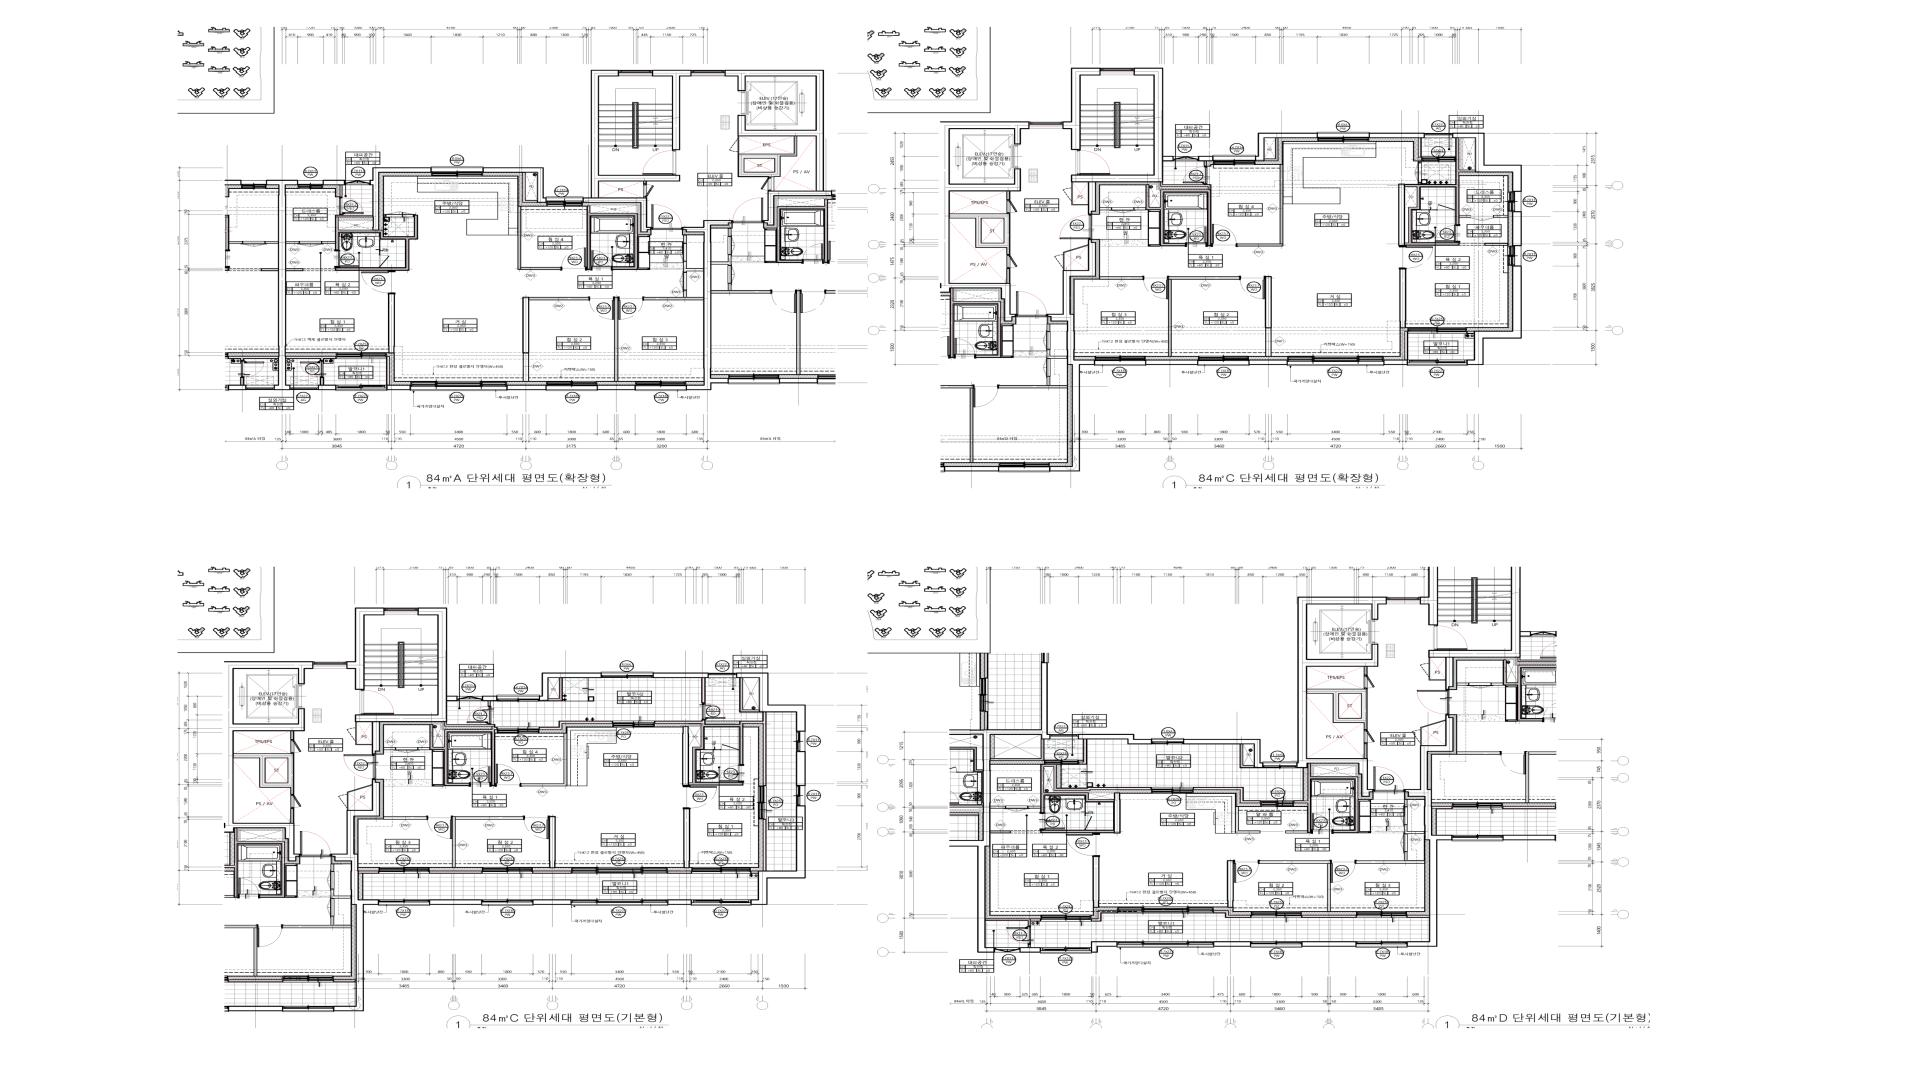door: (1076, 149, 1110, 175), (1433, 625, 1468, 650), (343, 754, 376, 780), (360, 690, 394, 715), (652, 202, 682, 230), (683, 785, 717, 809), (642, 151, 676, 175), (361, 271, 396, 294), (1067, 833, 1100, 857), (1399, 246, 1433, 269), (1374, 766, 1404, 792), (1060, 215, 1092, 239), (1212, 224, 1238, 247), (495, 764, 521, 787), (523, 816, 549, 839), (1331, 860, 1357, 883), (1234, 860, 1260, 883), (618, 297, 644, 320), (1240, 276, 1265, 299), (1143, 276, 1168, 299), (427, 816, 452, 839), (589, 297, 614, 320), (562, 248, 586, 271), (1435, 224, 1461, 243), (1185, 226, 1208, 247), (469, 766, 492, 787), (1006, 926, 1031, 945), (1311, 813, 1333, 834), (466, 706, 491, 724), (1039, 813, 1065, 830), (591, 250, 612, 271), (1183, 167, 1208, 184), (719, 765, 744, 782), (339, 198, 364, 215), (334, 250, 359, 267), (702, 704, 726, 721), (300, 361, 323, 377), (643, 181, 654, 198), (1414, 161, 1422, 184), (729, 136, 739, 154), (290, 794, 302, 808), (1364, 674, 1375, 689), (1364, 729, 1375, 744), (1006, 200, 1017, 213), (290, 740, 301, 753), (761, 177, 771, 191), (395, 747, 418, 753), (299, 241, 322, 247), (1112, 207, 1134, 213), (1006, 806, 1028, 812), (379, 255, 390, 267), (1471, 215, 1493, 221), (721, 744, 739, 750), (1437, 204, 1455, 210), (1085, 815, 1092, 830)
wall: (1297, 596, 1387, 797), (224, 661, 313, 861), (940, 122, 1029, 322), (725, 70, 832, 226), (977, 730, 1050, 953), (583, 70, 680, 233), (1071, 68, 1174, 215), (355, 607, 457, 754), (1428, 543, 1521, 690), (1404, 714, 1454, 947), (682, 220, 733, 390), (654, 713, 767, 786), (1405, 138, 1475, 246), (266, 180, 298, 390), (331, 779, 380, 905), (1047, 239, 1096, 365), (1168, 277, 1240, 356), (523, 297, 590, 381), (751, 806, 806, 905), (1467, 266, 1522, 365), (1040, 765, 1152, 813), (335, 215, 418, 271), (1294, 764, 1359, 833), (429, 722, 498, 786), (1452, 133, 1522, 192), (736, 673, 806, 732), (1146, 185, 1212, 246), (369, 168, 432, 230), (1237, 165, 1283, 247), (1260, 860, 1331, 912), (452, 816, 523, 867), (586, 206, 638, 270), (346, 607, 385, 690), (652, 70, 692, 150), (1062, 68, 1101, 150), (1420, 543, 1458, 625), (518, 207, 561, 270), (234, 753, 294, 795), (950, 213, 1010, 255), (521, 733, 567, 786), (1184, 739, 1264, 768), (482, 168, 546, 203), (1255, 133, 1318, 161), (540, 673, 602, 701), (991, 739, 1045, 761), (1193, 787, 1261, 803), (1356, 851, 1424, 864), (1078, 734, 1152, 745), (1235, 806, 1261, 833), (739, 678, 759, 713), (539, 721, 613, 730), (1265, 277, 1272, 357), (981, 219, 1004, 243), (265, 758, 287, 783), (644, 291, 704, 300), (522, 173, 537, 203), (1358, 799, 1371, 833), (388, 294, 395, 353), (683, 809, 690, 868), (1092, 857, 1100, 908), (1160, 182, 1211, 190), (355, 722, 372, 745), (549, 816, 556, 868), (986, 919, 1031, 927), (1400, 269, 1406, 328), (796, 751, 806, 786), (683, 727, 689, 785), (548, 678, 563, 701), (1227, 860, 1234, 908), (614, 297, 618, 381), (653, 672, 709, 678), (1301, 941, 1357, 947), (1091, 910, 1118, 922), (1091, 941, 1118, 953), (1240, 745, 1254, 768), (1265, 138, 1279, 161), (429, 899, 482, 905), (1213, 910, 1252, 918), (1513, 212, 1522, 246), (1114, 793, 1121, 834), (1369, 133, 1425, 138), (1145, 360, 1198, 365), (286, 356, 337, 361), (683, 261, 703, 273), (1079, 739, 1088, 765), (1213, 941, 1251, 947), (1040, 830, 1114, 833), (763, 819, 767, 871), (506, 385, 547, 390), (532, 900, 572, 905), (1248, 360, 1288, 365), (597, 385, 636, 390), (1404, 825, 1424, 834), (383, 816, 427, 820), (1100, 276, 1143, 280), (1301, 915, 1357, 918), (428, 871, 483, 874), (1019, 947, 1041, 953), (386, 385, 411, 390), (701, 678, 706, 703), (668, 900, 692, 905), (532, 871, 572, 874), (1384, 360, 1408, 365), (386, 356, 390, 385), (1405, 331, 1409, 360), (323, 180, 346, 185), (335, 215, 372, 218), (318, 385, 336, 390), (1198, 156, 1214, 161), (1418, 138, 1422, 157), (482, 696, 497, 701), (667, 871, 692, 874), (1006, 268, 1011, 283), (1485, 243, 1508, 246), (1285, 831, 1307, 834), (1407, 915, 1429, 918), (290, 808, 294, 823), (359, 871, 379, 874), (286, 268, 303, 271), (991, 806, 1006, 809), (1493, 215, 1508, 218), (1006, 191, 1011, 200), (991, 831, 1011, 833), (286, 241, 299, 244), (322, 241, 335, 244), (1459, 215, 1472, 218), (683, 235, 687, 244), (418, 747, 430, 750), (1028, 806, 1040, 809), (1134, 207, 1146, 210), (384, 747, 395, 750), (320, 377, 324, 385), (290, 732, 294, 740), (1404, 799, 1408, 807), (1031, 919, 1041, 922), (340, 185, 342, 198), (1099, 208, 1111, 210), (751, 871, 758, 874), (1467, 331, 1474, 334), (1204, 161, 1207, 167), (432, 785, 444, 786), (1079, 760, 1083, 762), (1028, 945, 1031, 947)
window: (1288, 356, 1384, 366), (411, 381, 507, 391), (1118, 941, 1213, 948), (1118, 907, 1213, 914), (572, 867, 667, 874), (572, 900, 667, 906), (1317, 132, 1369, 142), (1198, 356, 1249, 366), (1095, 356, 1145, 366), (432, 167, 482, 177), (636, 381, 686, 391), (547, 382, 597, 391), (1213, 155, 1255, 165), (1408, 359, 1467, 366), (692, 867, 750, 874), (547, 197, 583, 207), (692, 900, 751, 906), (1041, 915, 1091, 922), (482, 867, 532, 874), (1357, 941, 1407, 948), (1409, 328, 1467, 334), (337, 352, 386, 359), (1357, 911, 1406, 918), (1252, 911, 1301, 918), (482, 900, 533, 906), (602, 672, 653, 678), (1251, 942, 1302, 948), (497, 695, 540, 702), (1041, 948, 1091, 954), (379, 900, 429, 906), (336, 385, 386, 391), (758, 786, 767, 819), (379, 868, 428, 874), (498, 727, 539, 734), (1152, 787, 1193, 794), (1508, 192, 1522, 211), (1508, 246, 1521, 266), (613, 721, 654, 727), (384, 608, 417, 615), (313, 662, 346, 669), (1458, 543, 1491, 550), (1261, 800, 1294, 807), (1101, 68, 1134, 75), (1030, 122, 1063, 129), (1387, 597, 1420, 604), (298, 180, 323, 189), (1264, 762, 1297, 768), (1153, 738, 1183, 744), (796, 786, 805, 805), (796, 732, 805, 751), (1045, 760, 1079, 765), (1422, 157, 1456, 162), (290, 385, 318, 390), (1051, 734, 1078, 739), (709, 673, 736, 678), (1425, 133, 1452, 138), (995, 948, 1019, 953), (458, 696, 482, 701), (1174, 156, 1198, 161), (346, 180, 369, 185)
